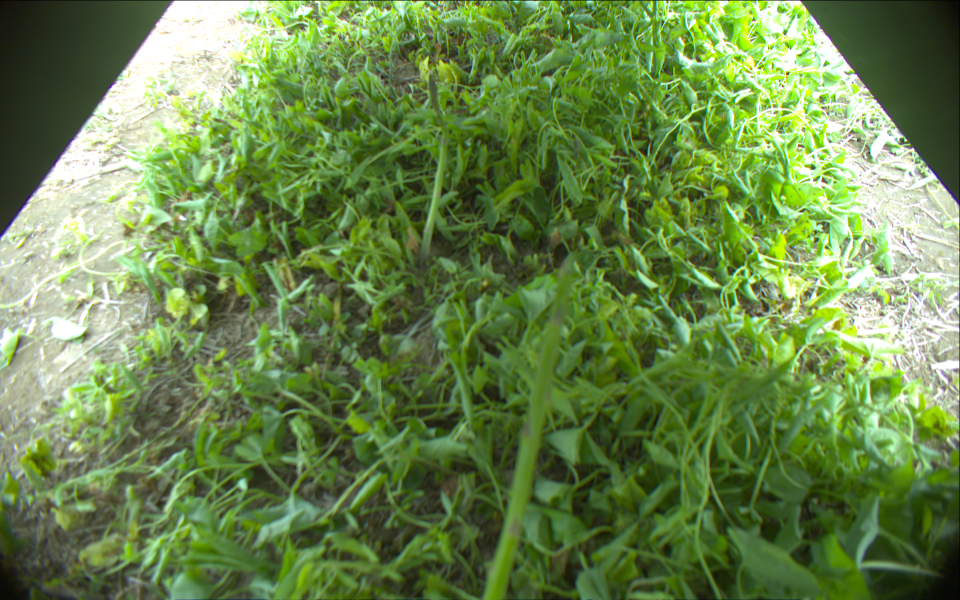aspa: (480, 256, 578, 600), (420, 80, 452, 266)
